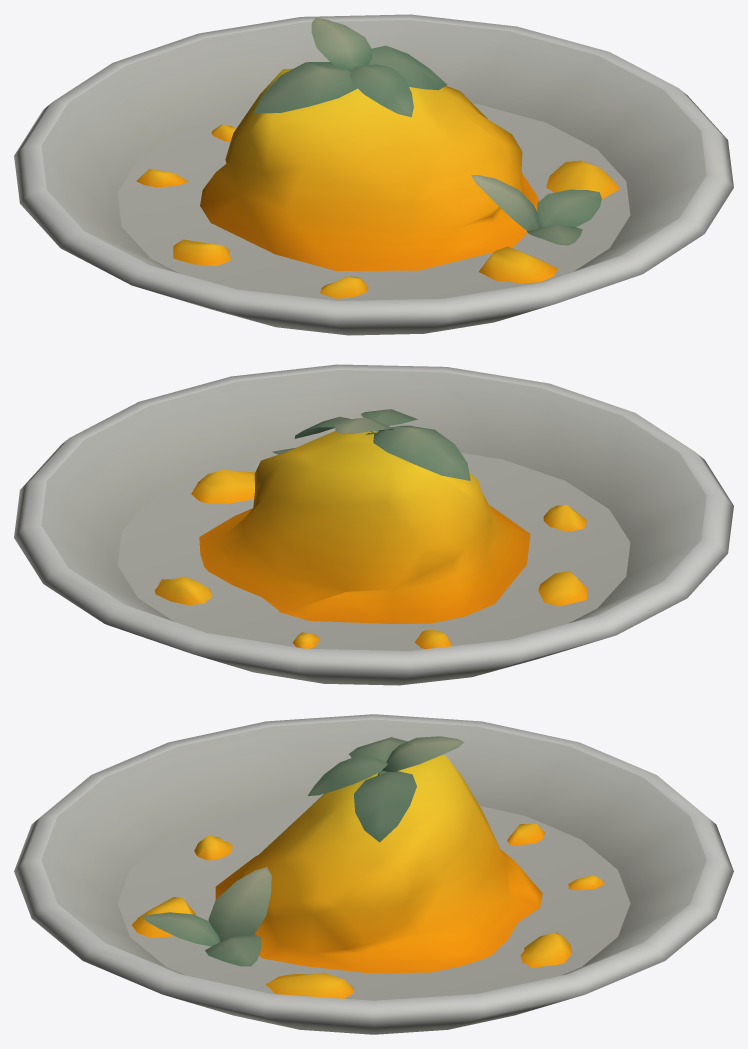
The model's file is mango_puree.glb.
3 renders of one model, top to bottom at view 1: azimuth 30°, elevation 25°; view 2: azimuth 150°, elevation 25°; view 3: azimuth 270°, elevation 25°, orthographic.
Visible parts, largest first — view 1: SM_Dish_A.014, SM_Food_General_01; view 2: SM_Dish_A.014, SM_Food_General_01; view 3: SM_Dish_A.014, SM_Food_General_01.
Part boxes in pixels (x1=…): SM_Dish_A.014: x1=14, y1=14, x2=733, y2=335; SM_Food_General_01: x1=136, y1=17, x2=619, y2=298; SM_Dish_A.014: x1=14, y1=364, x2=733, y2=685; SM_Food_General_01: x1=154, y1=409, x2=587, y2=648; SM_Dish_A.014: x1=14, y1=714, x2=733, y2=1034; SM_Food_General_01: x1=131, y1=736, x2=604, y2=998.
Size of the model in its own units: 0.7473 by 0.2124 by 0.7473.
Materials: 1 (1 with a texture image).
